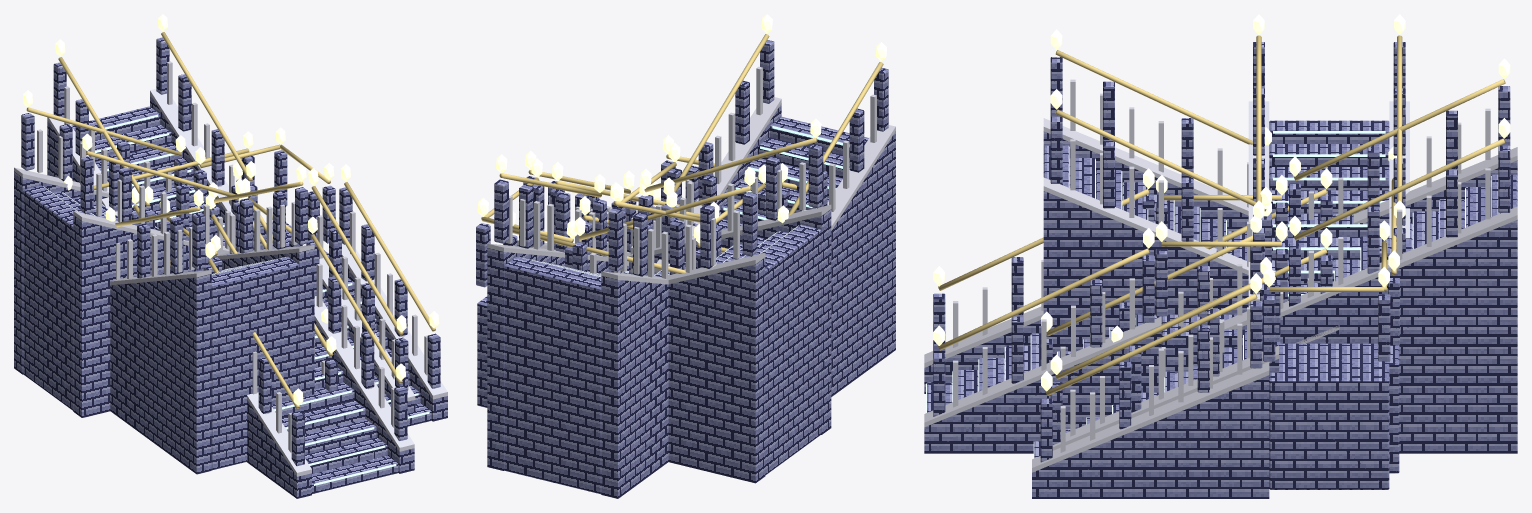
File: ST19-fantasy.glb
3 renders of one model, left to right at view 1: azimuth 30°, elevation 25°; view 2: azimuth 150°, elevation 25°; view 3: azimuth 270°, elevation 25°, orthographic. The views are drawn at different scales.
Parts seen in each view (by area): view 1: stair__ST19__U__fantasy, stair__ST19__L__fantasy, stair__ST19__straight-landing__fantasy, stair__ST19__straight__fantasy; view 2: stair__ST19__straight-landing__fantasy, stair__ST19__L__fantasy, stair__ST19__U__fantasy, stair__ST19__straight__fantasy; view 3: stair__ST19__straight-landing__fantasy, stair__ST19__L__fantasy, stair__ST19__U__fantasy, stair__ST19__straight__fantasy.
Boxes of the visible parts, x1=… form: stair__ST19__U__fantasy: x1=63, y1=131, x2=415, y2=474; stair__ST19__L__fantasy: x1=14, y1=90, x2=447, y2=426; stair__ST19__straight-landing__fantasy: x1=47, y1=14, x2=414, y2=498; stair__ST19__straight__fantasy: x1=132, y1=162, x2=328, y2=323; stair__ST19__straight-landing__fantasy: x1=487, y1=135, x2=796, y2=498; stair__ST19__L__fantasy: x1=476, y1=118, x2=831, y2=483; stair__ST19__U__fantasy: x1=503, y1=14, x2=895, y2=396; stair__ST19__straight__fantasy: x1=579, y1=196, x2=727, y2=273; stair__ST19__straight-landing__fantasy: x1=924, y1=58, x2=1517, y2=453; stair__ST19__L__fantasy: x1=1032, y1=14, x2=1409, y2=498; stair__ST19__U__fantasy: x1=1043, y1=29, x2=1399, y2=473; stair__ST19__straight__fantasy: x1=1111, y1=168, x2=1339, y2=388.
Size of the model in its own units: 4.39 by 4.26 by 6.91.
Materials: 5 (1 with a texture image).
